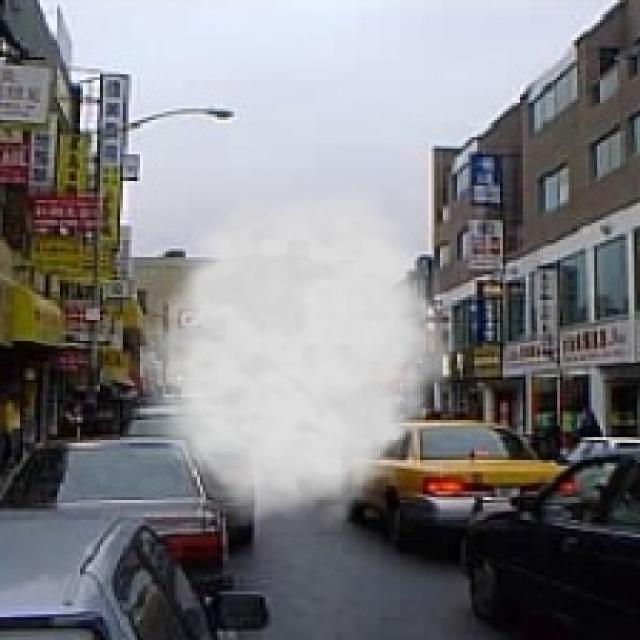smoke: (123, 174, 466, 532)
